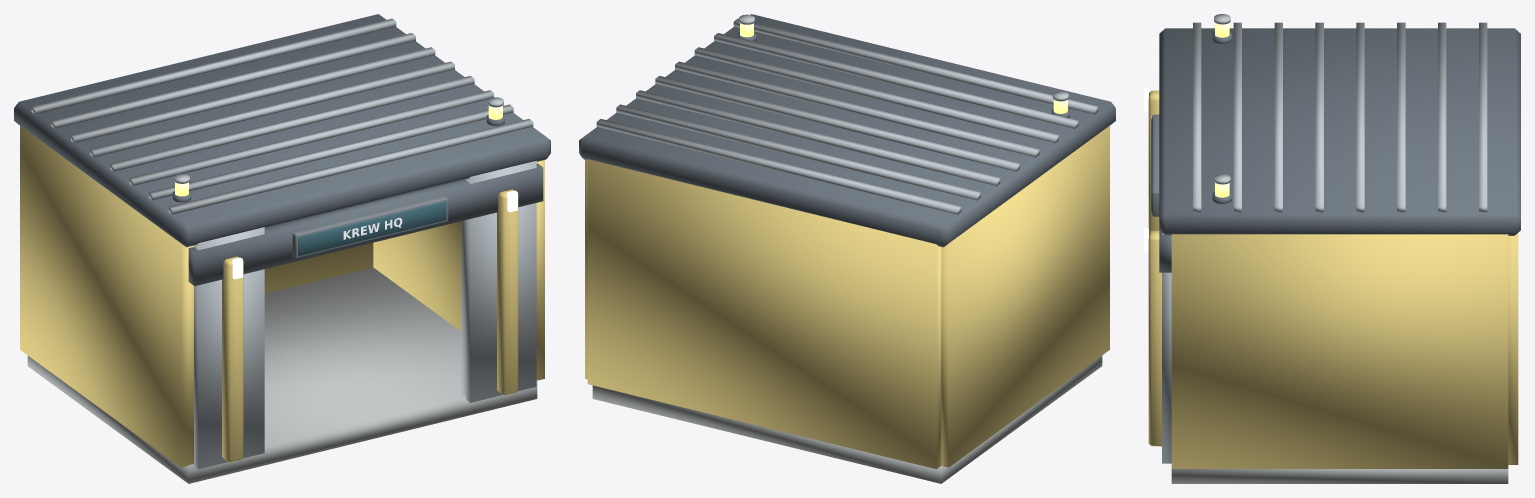
The model's file is krew_hq_enhanced.glb.
3 views of the same model, side by side, from view 1: azimuth 30°, elevation 25°; view 2: azimuth 150°, elevation 25°; view 3: azimuth 270°, elevation 25° (orthographic). The views are drawn at different scales.
Visible parts, largest first — view 1: Wall_yellow_legacy_1, Roof_dark_legacy_2, Foundation_concrete_legacy_0, RoofRib_steel_legacy_12, FrontFrame_steel_legacy_3, Header_dark_legacy_4, PortalTrim_yellow_legacy_14, SignPlate_glass, ScreenMount_frame; view 2: Wall_yellow_legacy_1, Roof_dark_legacy_2, RoofRib_steel_legacy_12, Foundation_concrete_legacy_0; view 3: Wall_yellow_legacy_1, Roof_dark_legacy_2, RoofRib_steel_legacy_12, Foundation_concrete_legacy_0, PortalTrim_yellow_legacy_14, FrontFrame_steel_legacy_3, ScreenMount_frame, Header_dark_legacy_4, StatusLight_warn_legacy_10.
Boxes of the visible parts, x1,y1,x2,y2 form: Wall_yellow_legacy_1: (20,125,544,467); Roof_dark_legacy_2: (14,14,550,247); Foundation_concrete_legacy_0: (27,267,537,483); RoofRib_steel_legacy_12: (31,18,533,214); FrontFrame_steel_legacy_3: (194,160,536,469); Header_dark_legacy_4: (188,163,543,285); PortalTrim_yellow_legacy_14: (222,189,518,462); SignPlate_glass: (298,201,446,255); ScreenMount_frame: (292,196,448,258); Wall_yellow_legacy_1: (585,125,1109,469); Roof_dark_legacy_2: (579,14,1115,247); RoofRib_steel_legacy_12: (596,18,1098,214); Foundation_concrete_legacy_0: (592,356,1102,483); Wall_yellow_legacy_1: (1171,233,1518,468); Roof_dark_legacy_2: (1159,28,1520,235); RoofRib_steel_legacy_12: (1193,22,1487,212); Foundation_concrete_legacy_0: (1171,469,1508,483); PortalTrim_yellow_legacy_14: (1148,90,1161,446); FrontFrame_steel_legacy_3: (1162,233,1171,463); ScreenMount_frame: (1152,114,1159,216); Header_dark_legacy_4: (1159,230,1171,272); StatusLight_warn_legacy_10: (1215,23,1229,197).
Size of the model in its own units: 5.3 by 3.9 by 4.48.
